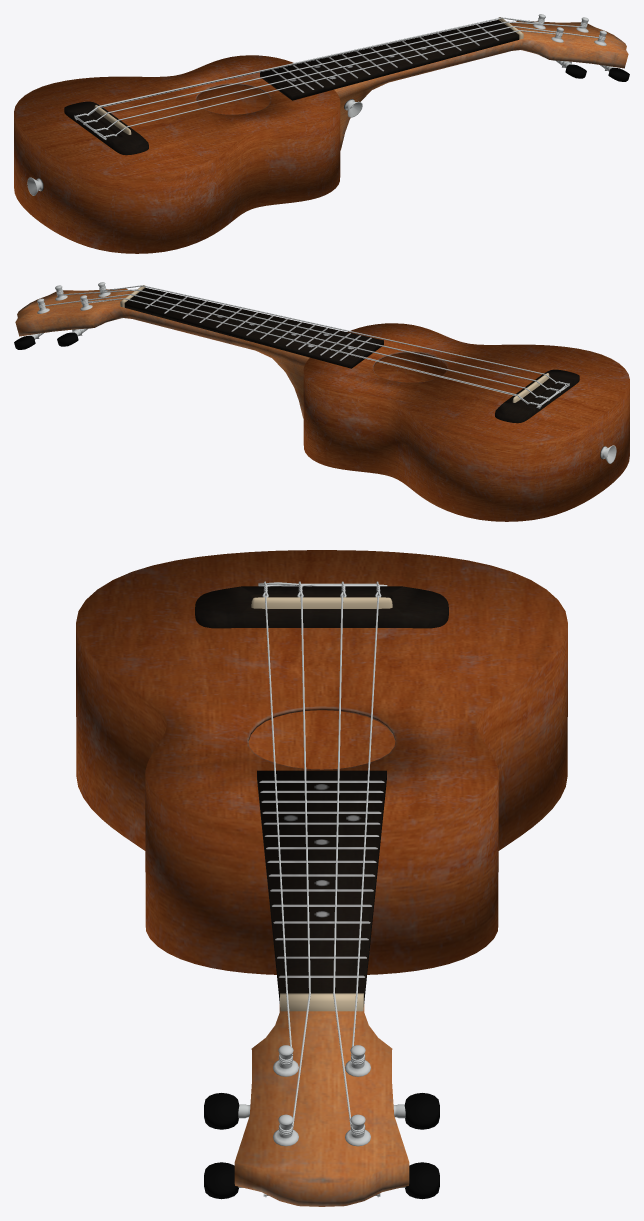
Rendered from Ukulele.obj.
The picture shows the model from 3 angles, top to bottom: view 1: azimuth 30°, elevation 25°; view 2: azimuth 150°, elevation 25°; view 3: azimuth 270°, elevation 25°; orthographic projection. The views are drawn at different scales.
Parts seen in each view (by area): view 1: ボディ_Circle.015; view 2: ボディ_Circle.015; view 3: ボディ_Circle.015.
Part boxes in pixels (x1,y1,x2,y2): ボディ_Circle.015: (14, 14, 629, 253); ボディ_Circle.015: (14, 282, 629, 521); ボディ_Circle.015: (76, 550, 567, 1206).
Size of the model in its own units: 10.46 by 1.51 by 3.79.
